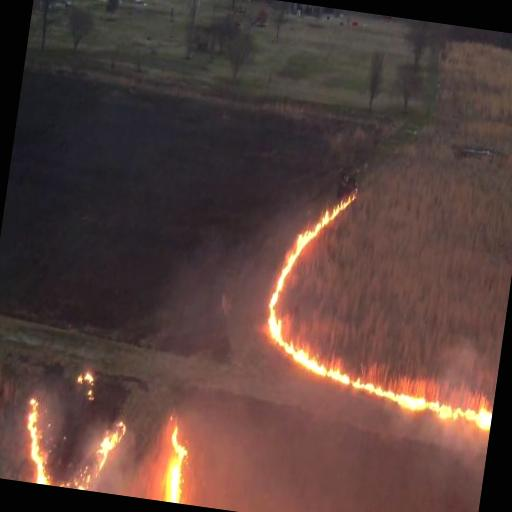fire: (257, 187, 512, 432), (18, 400, 128, 495), (164, 430, 193, 504), (75, 370, 101, 402)
smoke: (154, 220, 314, 363), (139, 408, 285, 512)
